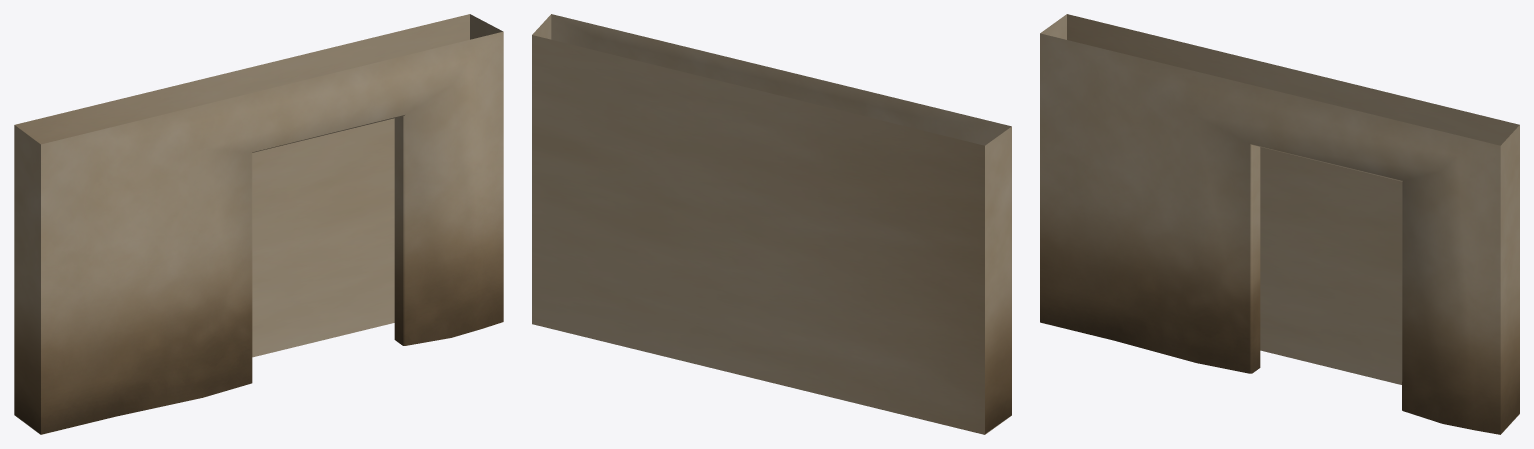
The model's file is WallShopC01.fbx.
3 renders of one model, left to right at view 1: azimuth 30°, elevation 25°; view 2: azimuth 150°, elevation 25°; view 3: azimuth 330°, elevation 25°, orthographic.
Visible parts, largest first — view 1: WallShopC01; view 2: WallShopC01; view 3: WallShopC01.
Part boxes in pixels (box(x1,y1,x2,y2)): WallShopC01: box(14, 14, 503, 434); WallShopC01: box(532, 14, 1011, 434); WallShopC01: box(1040, 14, 1519, 434).
Size of the model in its own units: 6.1 by 3.66 by 0.7186.
